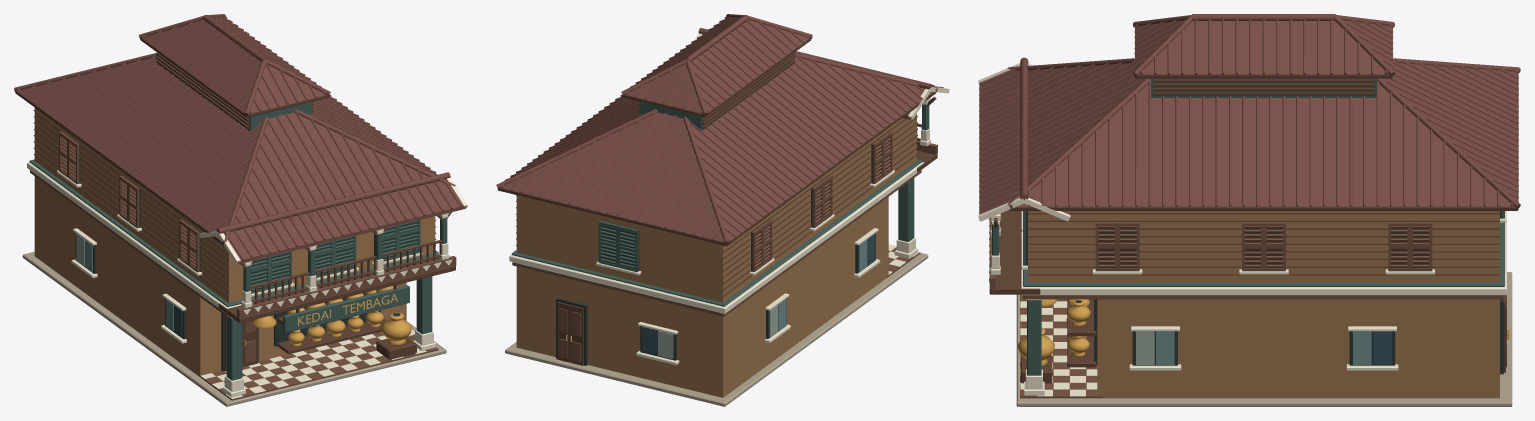
3 renders of one model, left to right at view 1: azimuth 30°, elevation 25°; view 2: azimuth 150°, elevation 25°; view 3: azimuth 270°, elevation 25°, orthographic. The views are drawn at different scales.
Visible parts, largest first — view 1: Lower tile hips, Shop and residence, Balai gallery, Monitor and crest, Balcony sunshade, Louvred shutters, Five foot way mosaic, Arcade piers, Casements and sills, Hammered wares, Entrance joinery, Show urn (+1 smaller); view 2: Shop and residence, Lower tile hips, Monitor and crest, Balai gallery, Louvred shutters, Casements and sills, Entrance joinery, Arcade piers, Balcony sunshade, Five foot way mosaic; view 3: Shop and residence, Lower tile hips, Monitor and crest, Balai gallery, Louvred shutters, Balcony sunshade, Casements and sills, Five foot way mosaic, Arcade piers, Hammered wares, Entrance joinery, Show urn.
Part boxes in pixels (x1,y1,x2,y2): Lower tile hips: (14,31,455,245); Shop and residence: (22,108,446,406); Balai gallery: (33,53,456,359); Monitor and crest: (139,14,330,117); Balcony sunshade: (199,172,467,264); Louvred shutters: (57,131,422,296); Five foot way mosaic: (200,329,438,400); Arcade piers: (223,276,435,397); Casements and sills: (71,228,186,343); Hammered wares: (287,290,383,346); Entrance joinery: (221,313,258,371); Show urn: (381,312,411,345); Shop and residence: (505,114,928,406); Lower tile hips: (496,52,937,246); Monitor and crest: (621,14,812,117); Balai gallery: (516,53,937,296); Louvred shutters: (596,131,894,275); Casements and sills: (636,228,880,364); Entrance joinery: (556,298,587,365); Arcade piers: (894,178,917,258); Balcony sunshade: (694,28,949,119); Five foot way mosaic: (886,244,920,277); Shop and residence: (1016,211,1512,406); Lower tile hips: (1007,58,1520,210); Monitor and crest: (1133,14,1394,78); Balai gallery: (989,78,1499,383); Louvred shutters: (1021,211,1506,274); Balcony sunshade: (978,57,1070,221); Casements and sills: (1129,326,1398,370); Five foot way mosaic: (1020,294,1102,398); Arcade piers: (1024,299,1044,395); Hammered wares: (1066,299,1090,356); Entrance joinery: (1500,295,1509,374); Show urn: (1018,328,1054,366).
Bounding box in the file's own units: 9.15 × 10.1 × 15.17.
